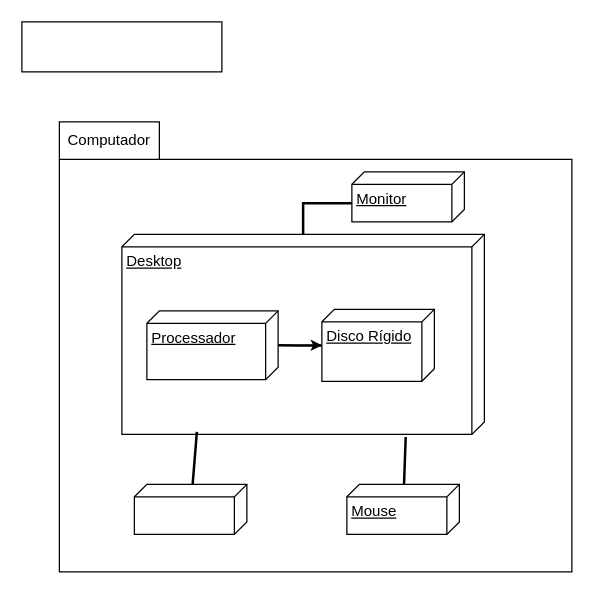
Image size: 594x594. Some labels were removed from this diagram. Each missing label, with the centre of its shape:
Diagrama de Implantação: the point at 121,46
Teclado: the point at 190,508
